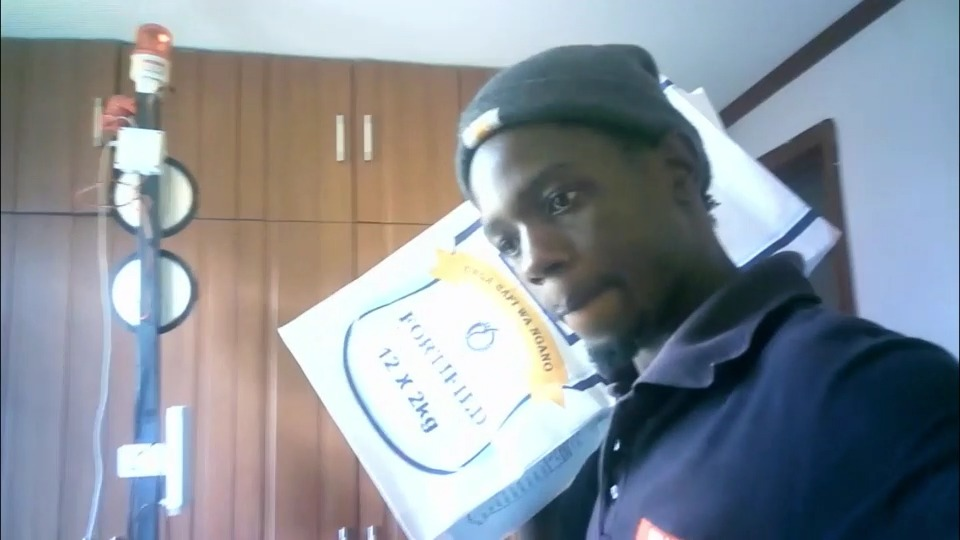wheat_flour_blue_label: (278, 81, 840, 536)
